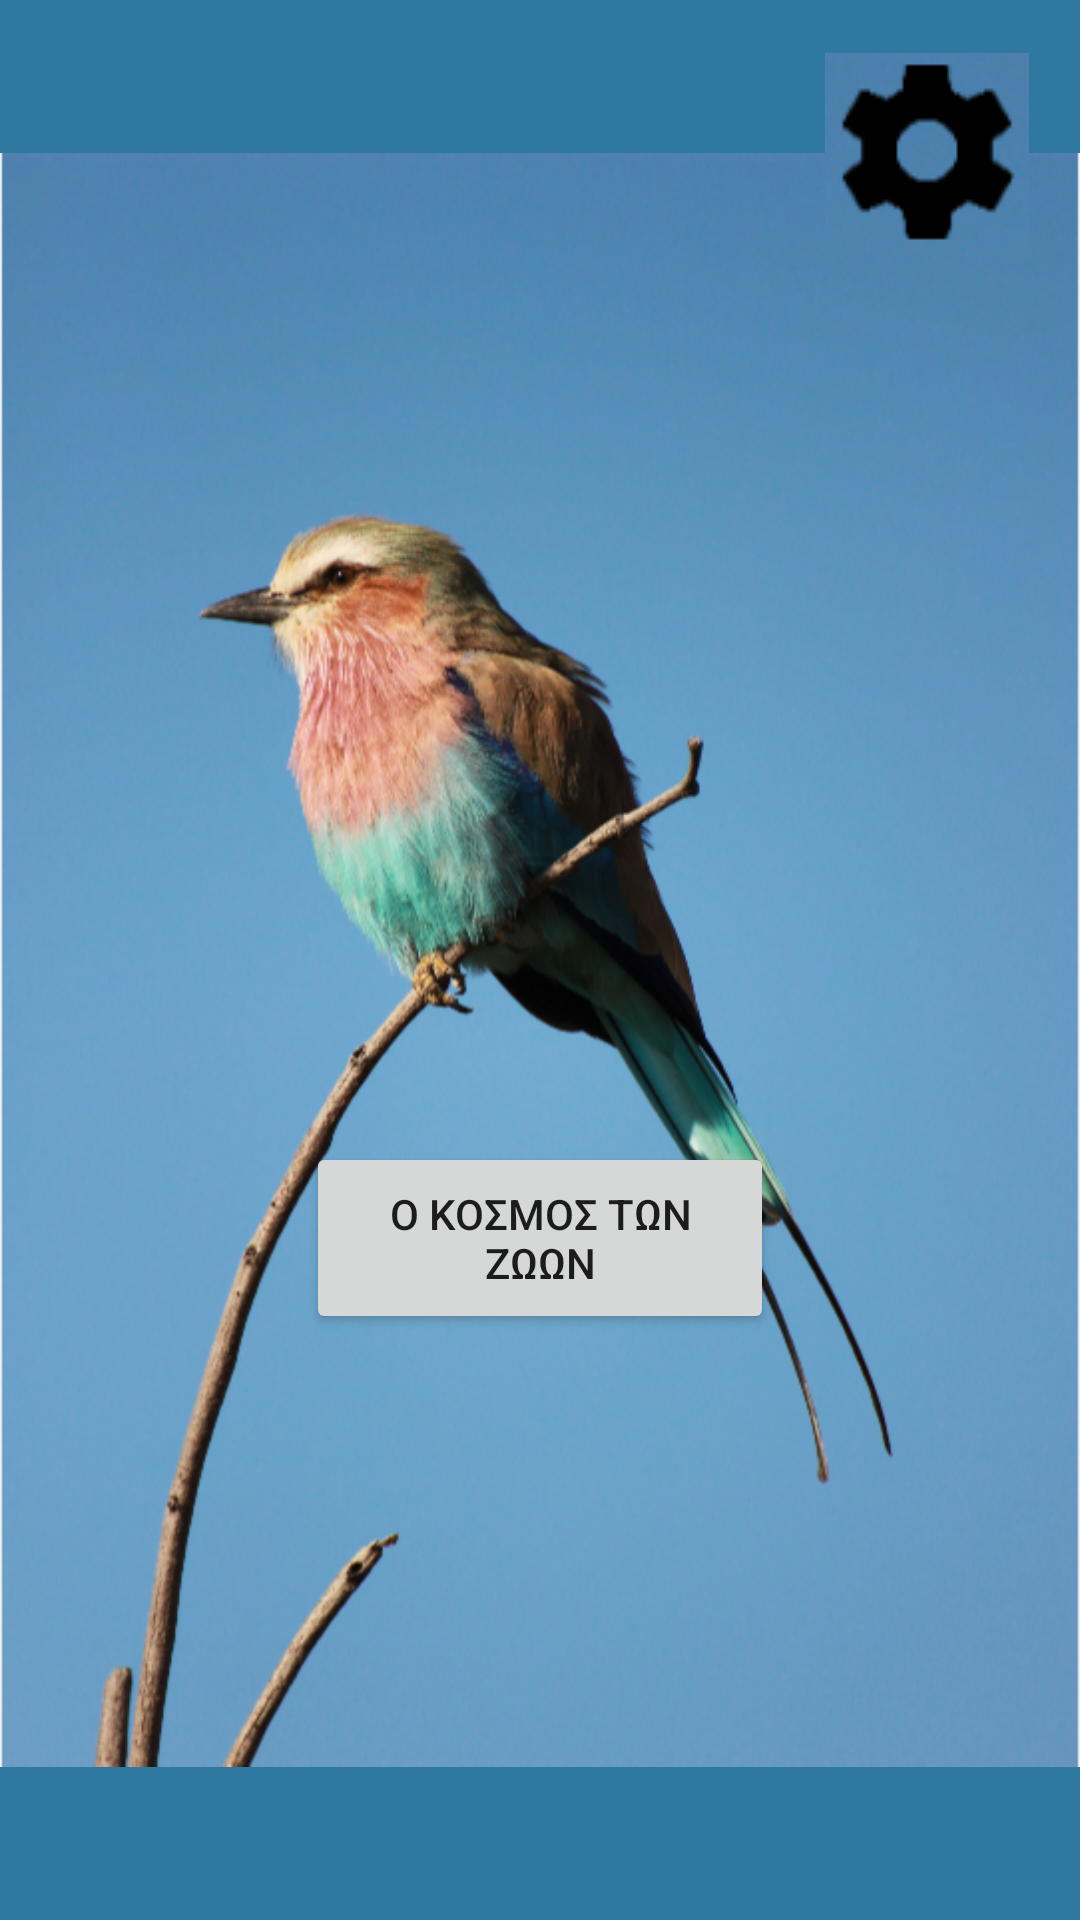

Icon click points for this 1080×1920 phone screenshot, format (x=x, y=y):
settings: (x=927, y=153)
